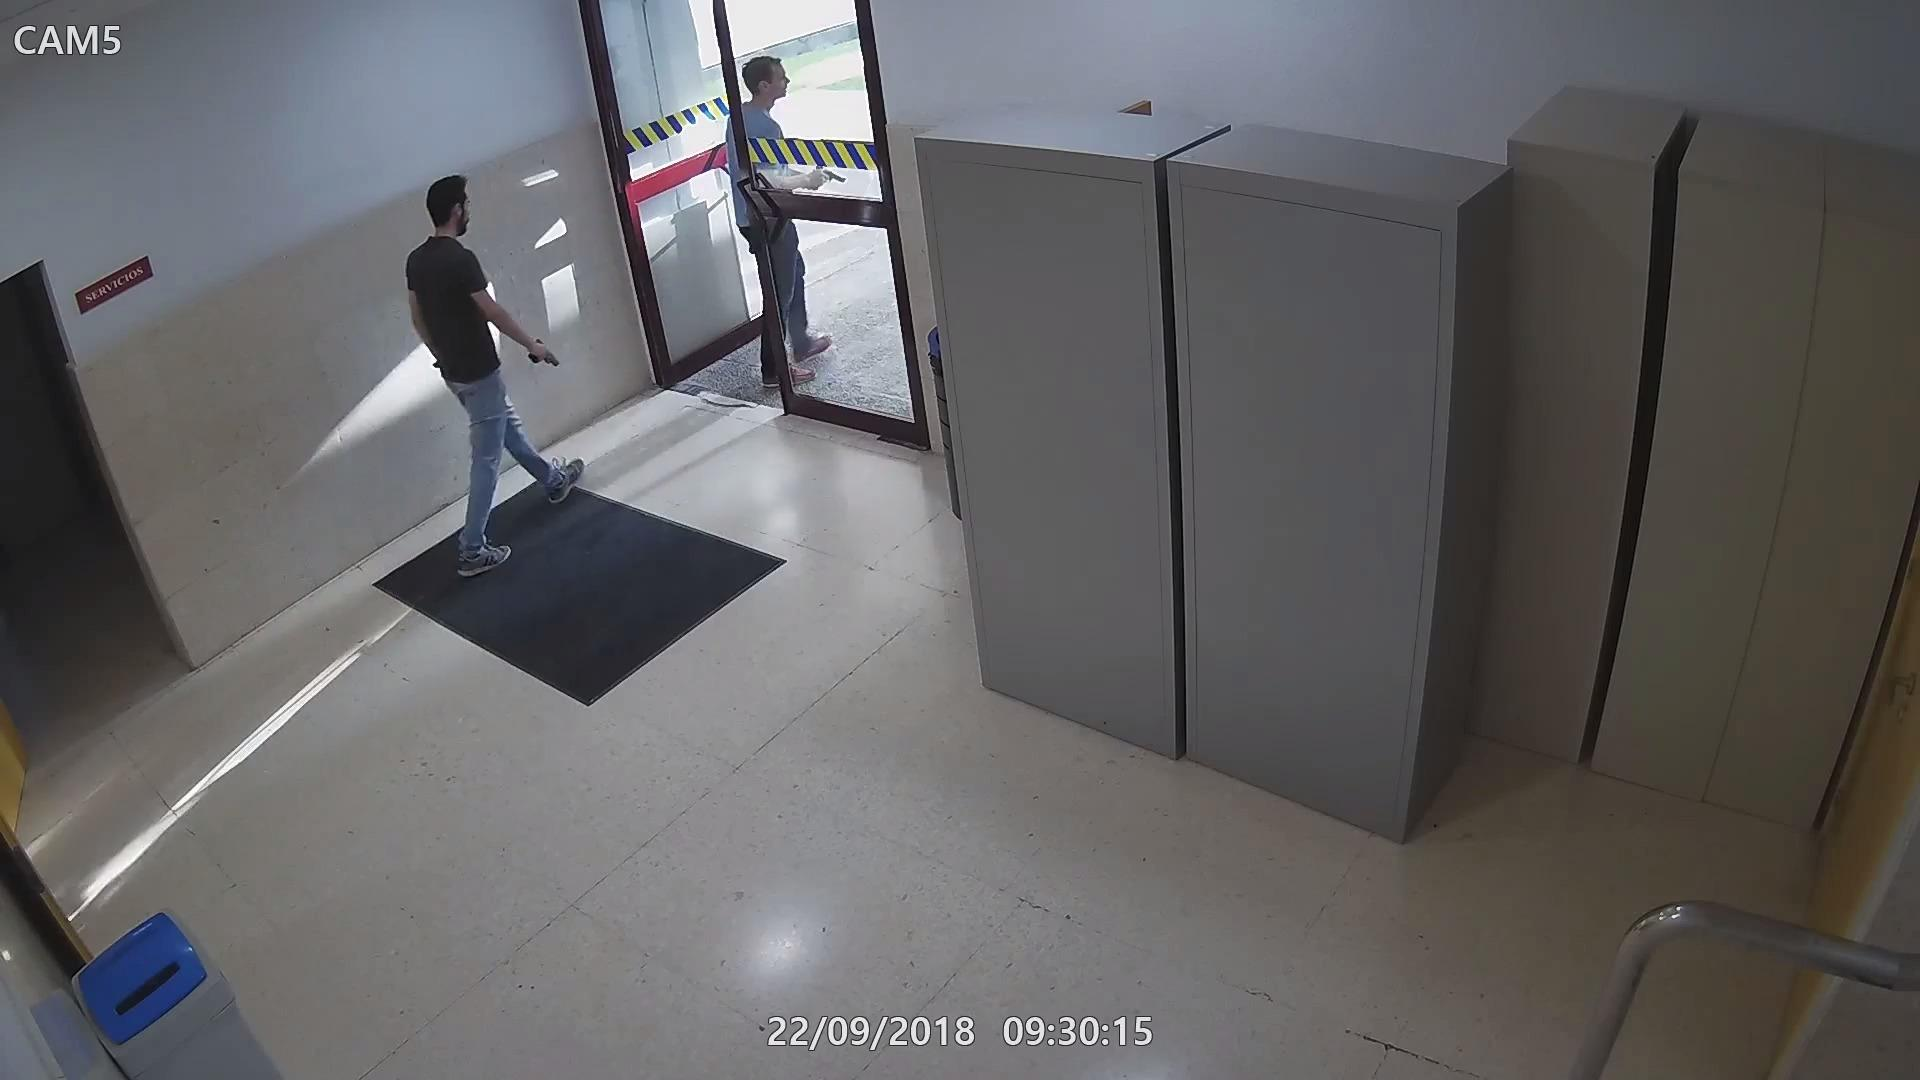Handgun: (524, 334, 564, 372), (808, 165, 848, 193)
